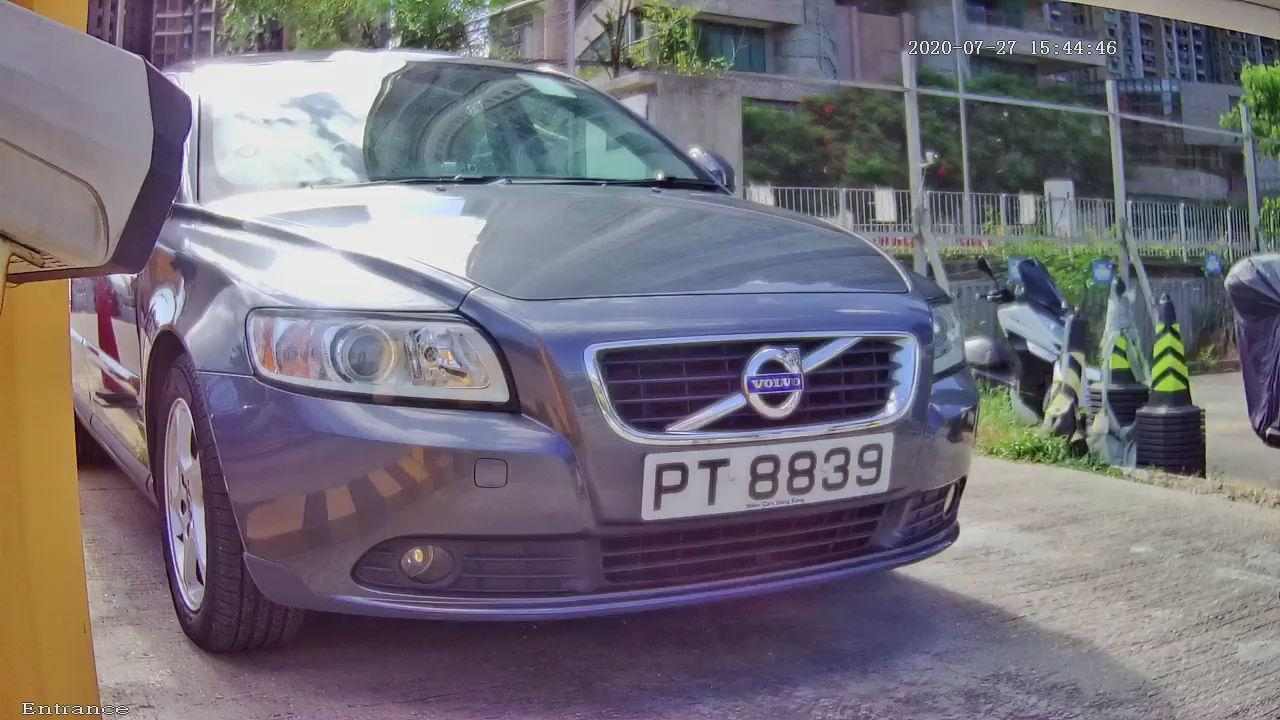privatecar: (41, 13, 1092, 679)
